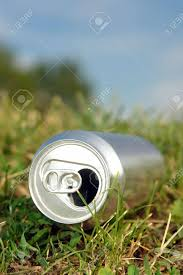can: (24, 129, 168, 231)
